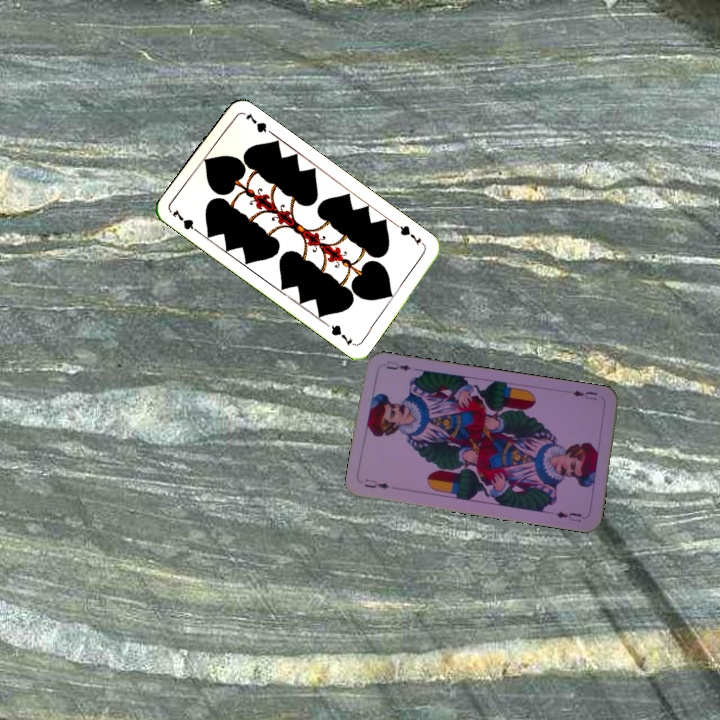EU: (568, 386, 599, 403), (361, 475, 392, 492)
G7: (168, 205, 203, 236), (392, 220, 428, 249)
